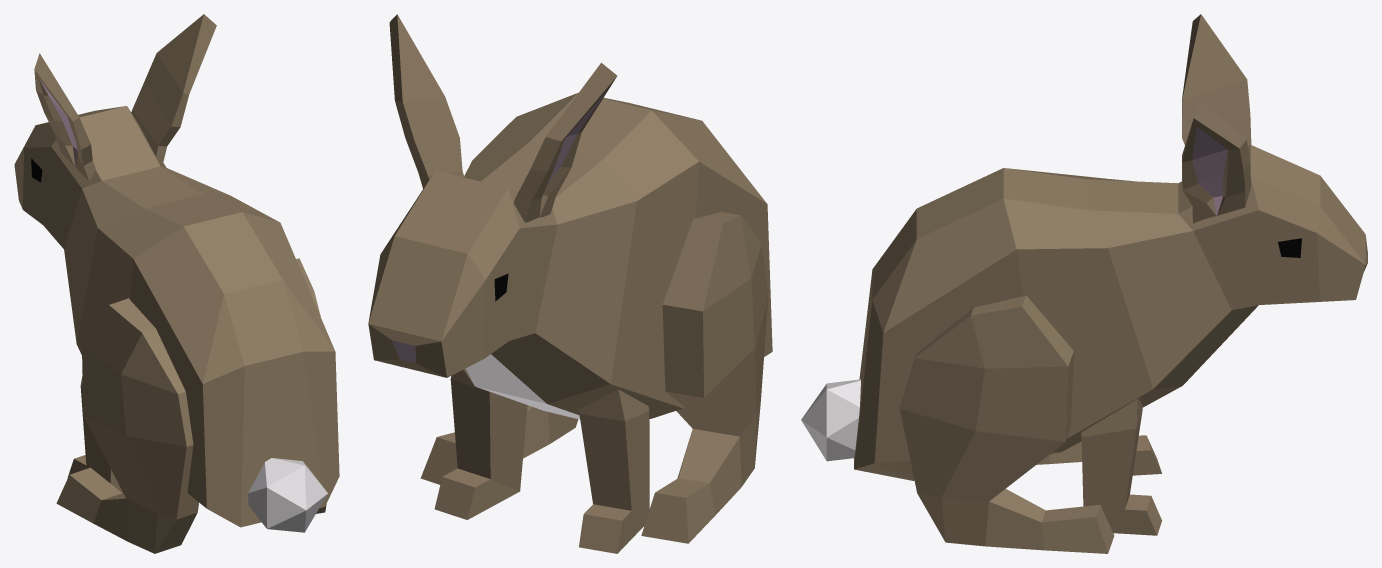
Rendered from rabbitFBX.fbx.
3 renders of one model, left to right at view 1: azimuth 30°, elevation 25°; view 2: azimuth 150°, elevation 25°; view 3: azimuth 270°, elevation 25°, orthographic. The views are drawn at different scales.
Visible parts, largest first — view 1: rabbitBody, rabbitLeg2, ear1, tail, ear2, rabbitLeg4; view 2: rabbitBody, rabbitLeg2, rabbitLeg4, rabbitLeg3, ear1, ear2, rabbitLeg1; view 3: rabbitBody, rabbitLeg1, rabbitLeg3, ear1, ear2, tail, rabbitLeg4.
Part boxes in pixels (x1,y1,x2,y2): rabbitBody: (14, 106, 339, 527); rabbitLeg2: (56, 298, 198, 553); ear1: (131, 14, 216, 163); tail: (247, 458, 327, 532); ear2: (34, 53, 95, 180); rabbitLeg4: (67, 375, 122, 492); rabbitBody: (368, 92, 772, 419); rabbitLeg2: (641, 212, 768, 543); rabbitLeg4: (579, 389, 649, 553); rabbitLeg3: (434, 370, 527, 519); ear1: (389, 14, 464, 188); ear2: (514, 62, 617, 222); rabbitLeg1: (420, 405, 578, 484); rabbitBody: (854, 144, 1367, 480); rabbitLeg1: (899, 295, 1114, 553); rabbitLeg3: (1081, 399, 1161, 535); ear1: (1182, 101, 1250, 223); ear2: (1182, 14, 1251, 145); tail: (801, 379, 860, 461); rabbitLeg4: (1132, 435, 1161, 475).
Size of the model in its own units: 183 by 335 by 390.
